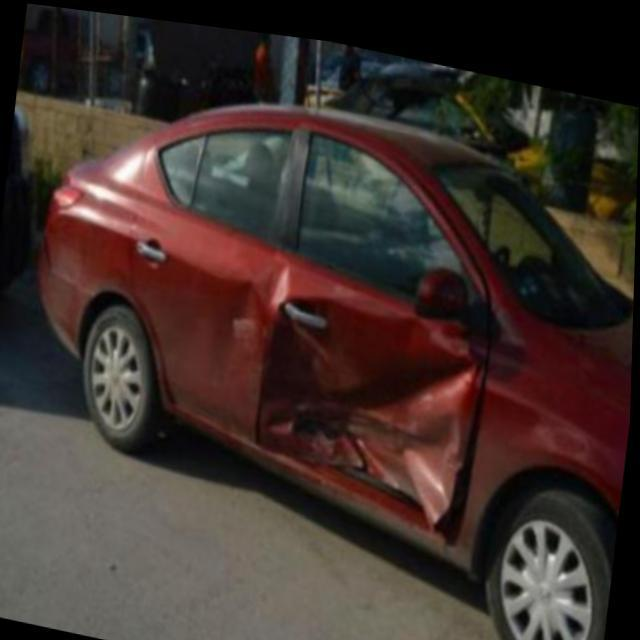dent: (258, 275, 493, 532), (218, 272, 263, 369), (268, 244, 293, 309)
